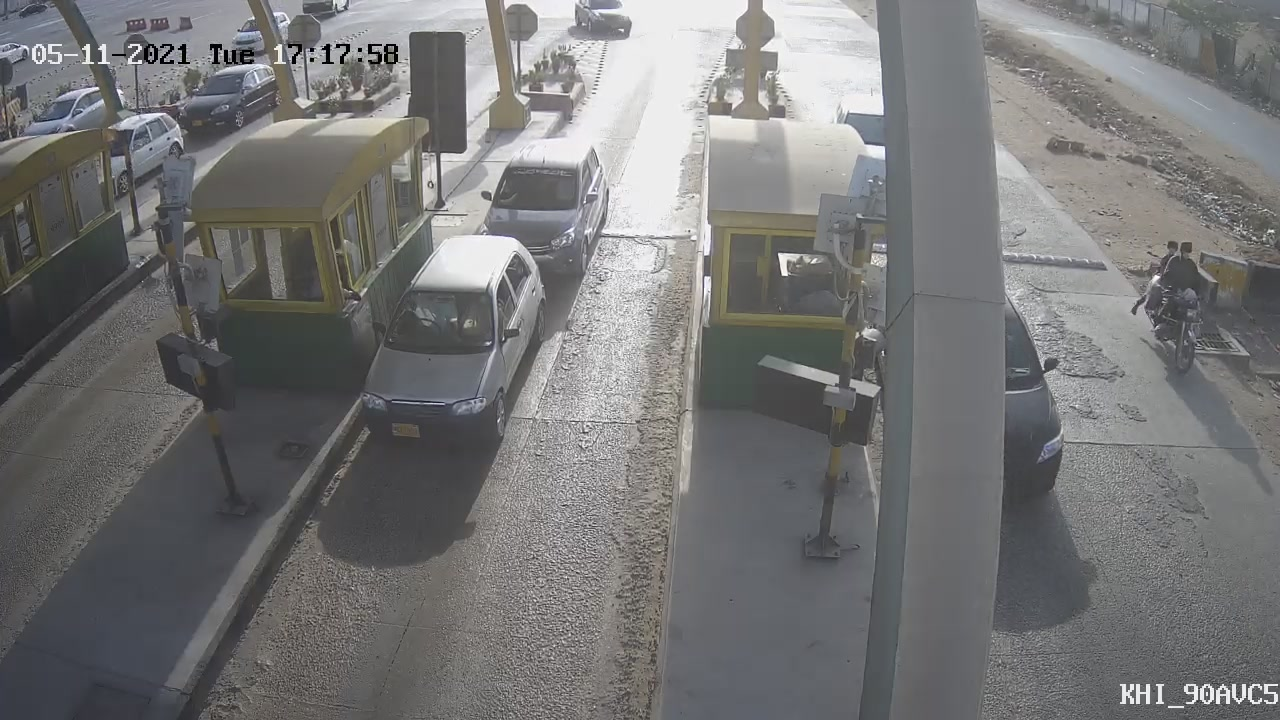F1: (334, 221, 563, 470), (456, 125, 633, 298)
